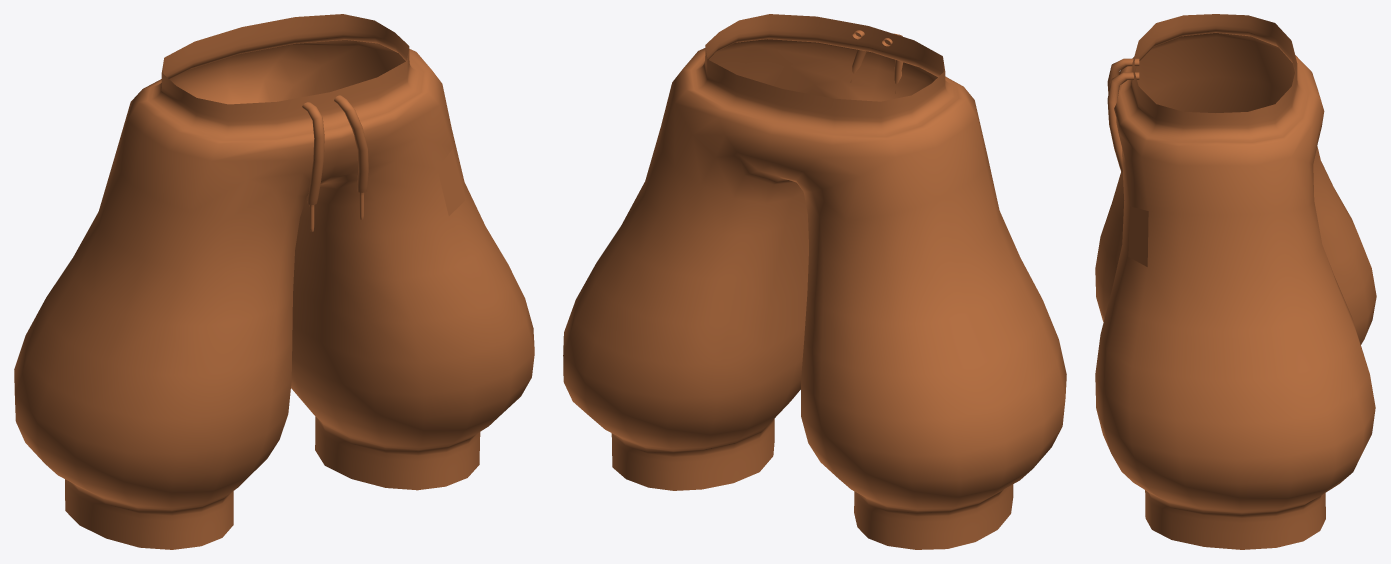
File: pants.fbx
3 views of the same model, side by side, from view 1: azimuth 30°, elevation 25°; view 2: azimuth 150°, elevation 25°; view 3: azimuth 270°, elevation 25° (orthographic). The views are drawn at different scales.
Visible parts, largest first — view 1: PUFFER_AND_SWEATS:polySurface29; view 2: PUFFER_AND_SWEATS:polySurface29; view 3: PUFFER_AND_SWEATS:polySurface29.
Boxes of the visible parts, bbox=[...] form: PUFFER_AND_SWEATS:polySurface29: bbox=[14, 14, 534, 549]; PUFFER_AND_SWEATS:polySurface29: bbox=[563, 14, 1066, 549]; PUFFER_AND_SWEATS:polySurface29: bbox=[1095, 14, 1376, 549].
Size of the model in its own units: 4.16 by 3.61 by 2.3.
